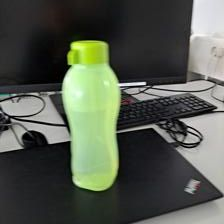bottle: (59, 36, 125, 195)
